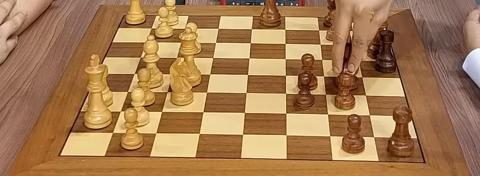xcorner: (213, 24, 220, 31), (316, 40, 322, 47), (244, 71, 250, 78), (361, 92, 368, 98), (242, 90, 249, 96), (365, 112, 372, 118), (282, 110, 289, 116), (239, 131, 246, 137), (348, 27, 354, 33), (315, 26, 321, 32), (281, 26, 287, 32), (247, 25, 253, 31), (180, 24, 186, 30), (146, 23, 152, 29), (351, 41, 357, 47), (281, 40, 287, 46), (246, 39, 252, 45), (211, 39, 217, 45), (176, 38, 182, 44), (141, 38, 147, 44), (354, 57, 360, 63), (318, 56, 324, 62), (281, 55, 287, 61), (245, 55, 251, 61), (209, 54, 215, 60), (172, 54, 178, 60), (136, 53, 142, 59), (358, 73, 364, 79), (320, 73, 326, 79), (282, 72, 288, 78), (206, 71, 212, 77), (168, 70, 174, 76), (130, 70, 136, 76), (322, 91, 328, 97), (282, 90, 288, 96), (203, 89, 209, 95), (163, 88, 169, 94), (124, 88, 130, 94), (324, 111, 330, 117), (241, 110, 247, 116), (200, 109, 206, 115), (158, 108, 164, 114), (117, 107, 123, 113), (370, 134, 376, 140), (326, 133, 332, 139), (283, 132, 289, 138), (196, 131, 202, 137), (153, 130, 159, 136), (110, 129, 116, 135)
